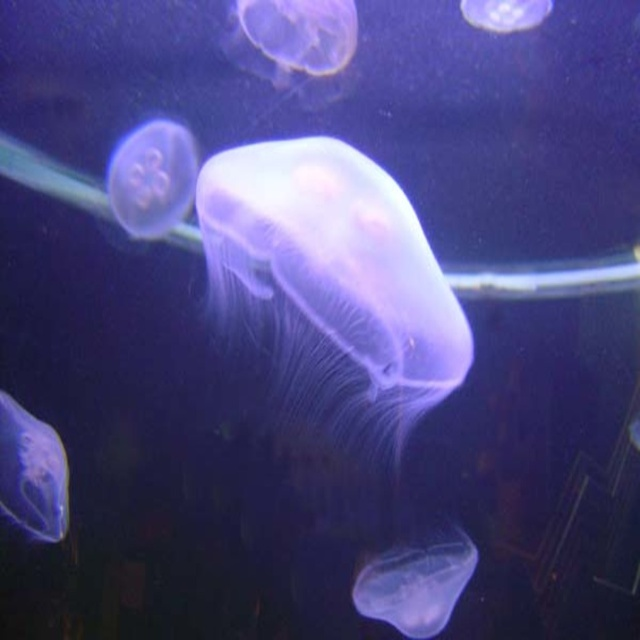Fish: (0, 0, 640, 640), (191, 137, 479, 475), (351, 525, 482, 638), (108, 119, 200, 239), (0, 391, 71, 542), (236, 0, 359, 74), (460, 0, 555, 32)
